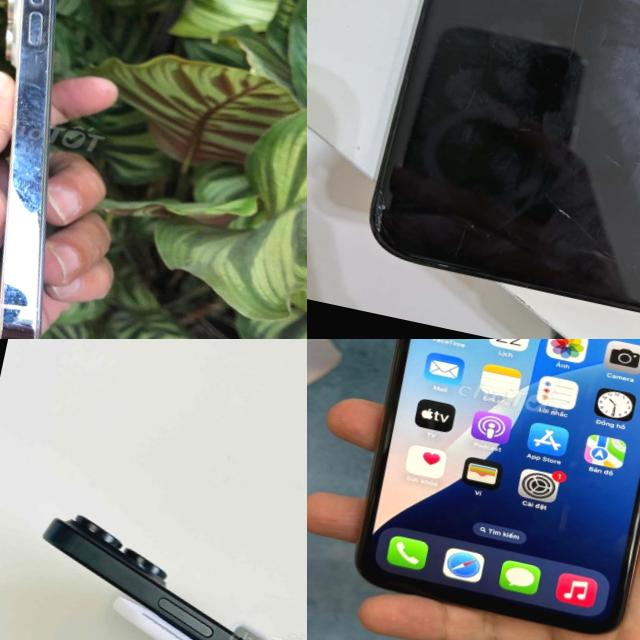gen_11: (320, 339, 640, 640)
gen_12_13: (349, 0, 640, 331)
gen_14: (0, 0, 158, 339)
gen_15: (0, 477, 307, 640)
